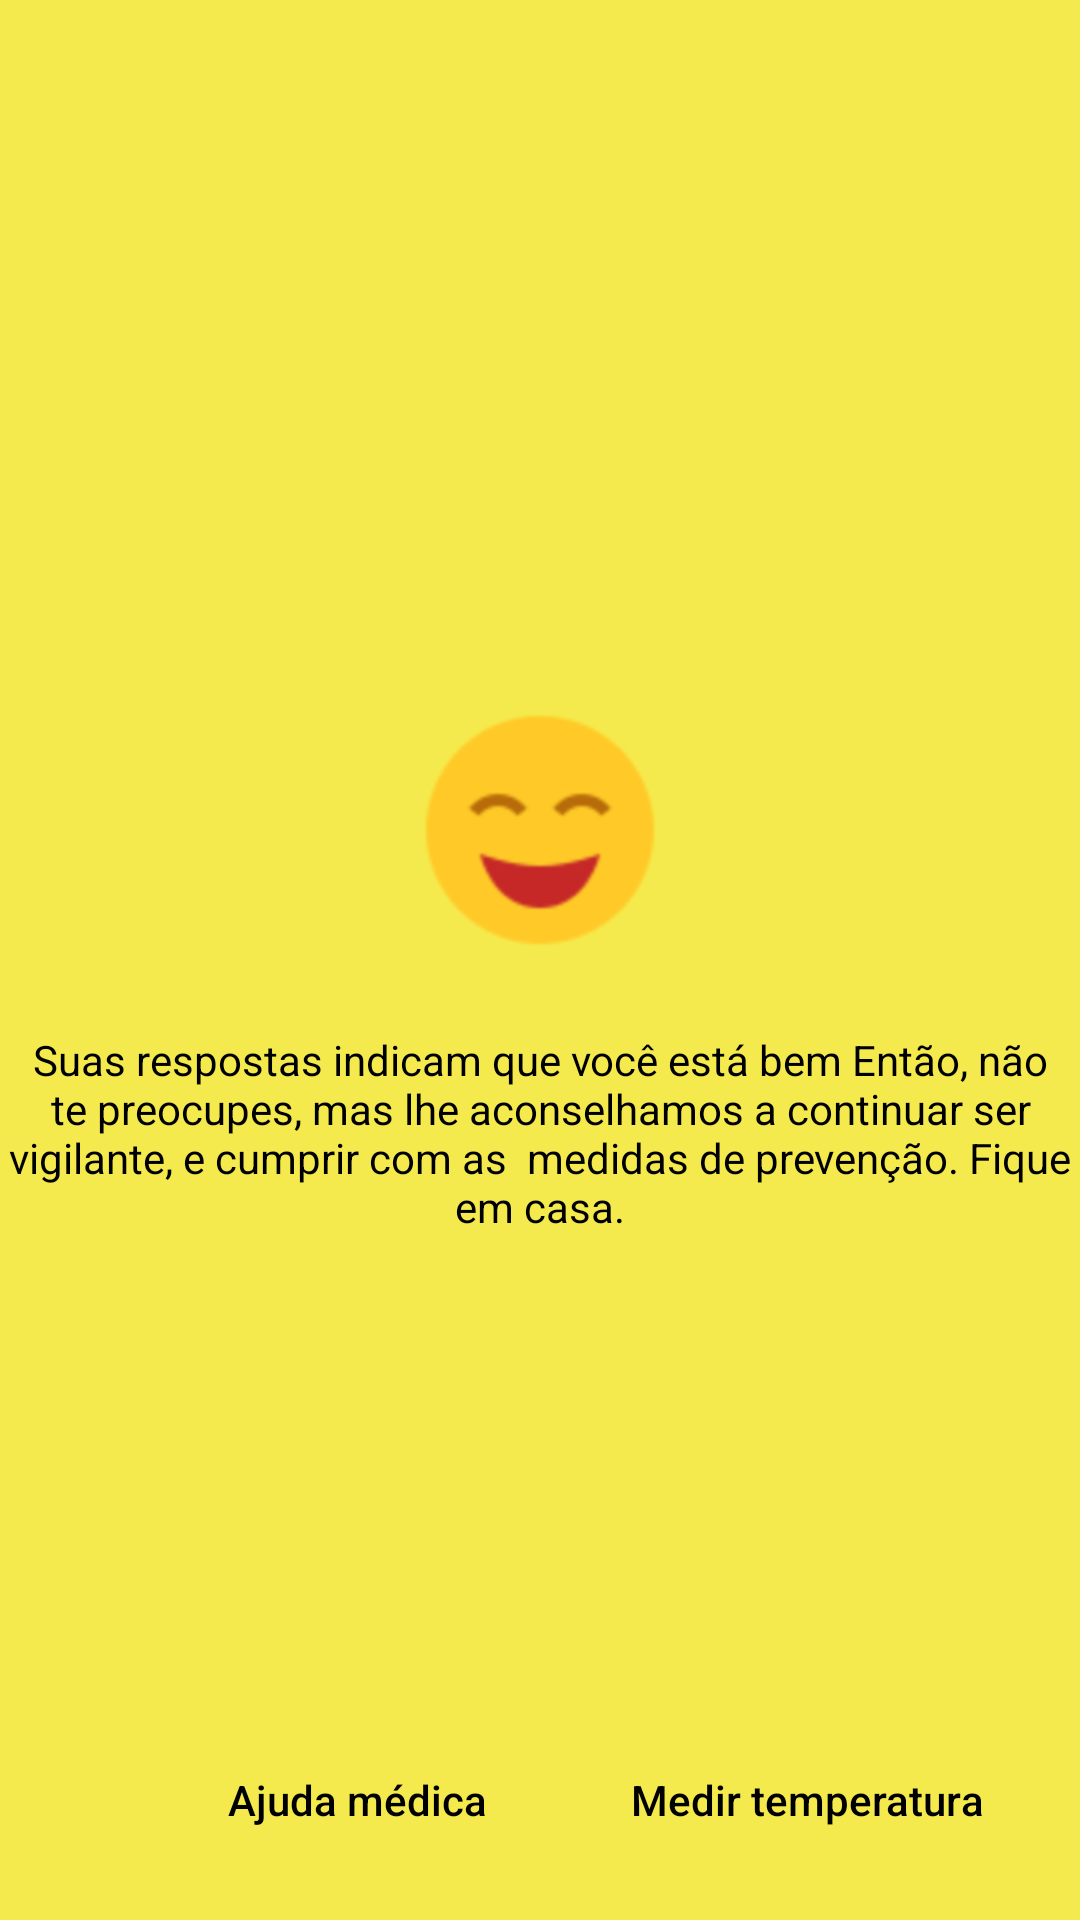

Named icons in this screenshot (1080 x 1920) and their centers, [x,y]:
lol: [539,830]
